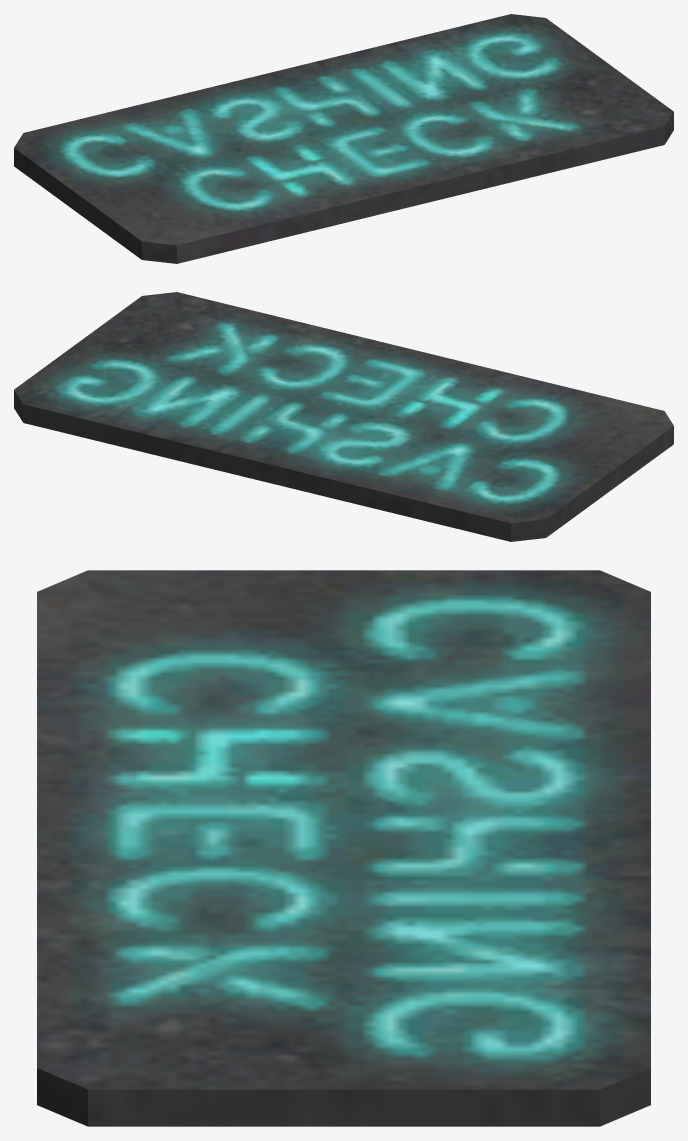
The model's file is neonchecks1.fbx.
3 renders of one model, top to bottom at view 1: azimuth 30°, elevation 25°; view 2: azimuth 150°, elevation 25°; view 3: azimuth 270°, elevation 25°, orthographic. The views are drawn at different scales.
Parts seen in each view (by area): view 1: mesh_0; view 2: mesh_0; view 3: mesh_0.
Boxes of the visible parts, x1,y1,x2,y2 form: mesh_0: (14, 14, 673, 263); mesh_0: (14, 292, 673, 541); mesh_0: (37, 570, 650, 1126).
Size of the model in its own units: 120 by 4 by 60.
1 material, 1 textured.
